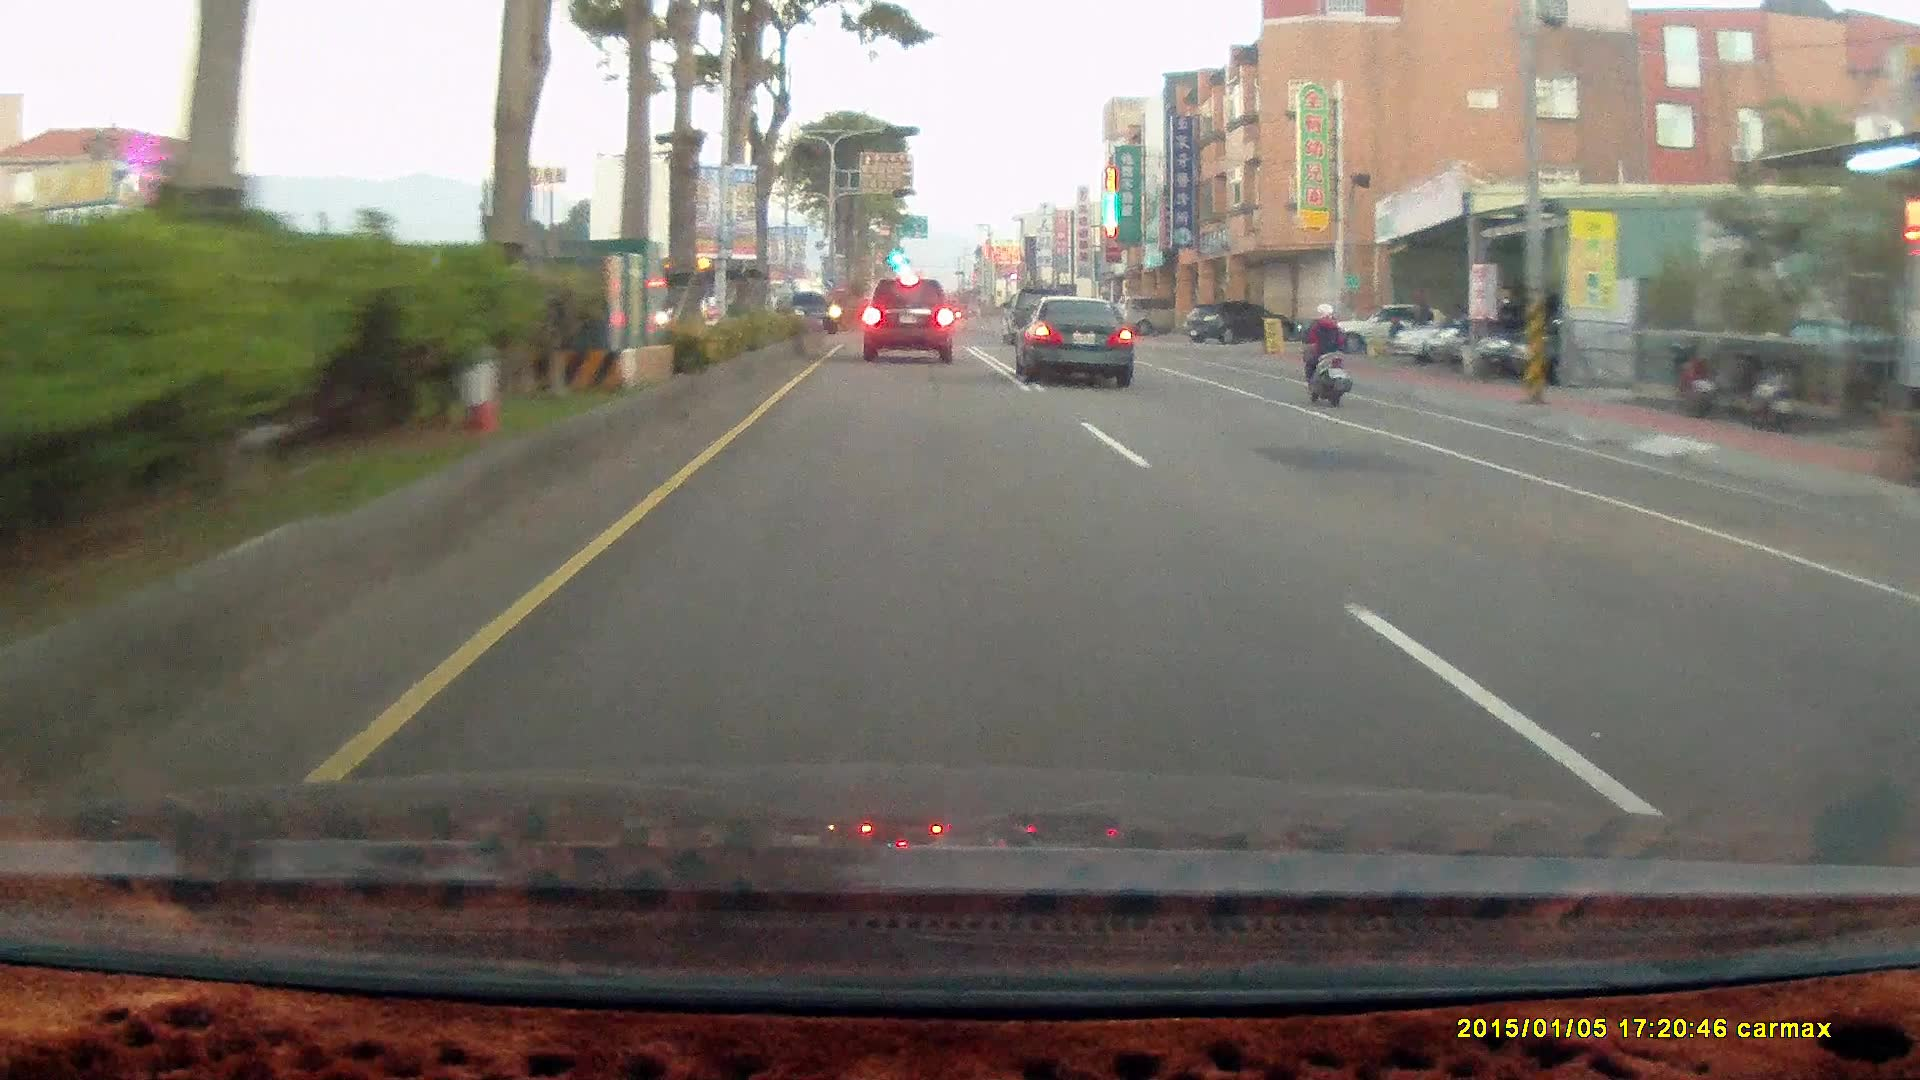pedestrian: (1411, 292, 1432, 349)
rider: (1289, 291, 1365, 416), (1294, 296, 1352, 403)
vehicle: (1505, 307, 1668, 382), (1474, 300, 1634, 376), (1021, 289, 1138, 385), (1010, 293, 1132, 384), (1430, 294, 1571, 366), (1303, 298, 1464, 357), (1304, 299, 1466, 358), (865, 269, 960, 358), (860, 277, 952, 363), (1392, 310, 1512, 364), (1182, 299, 1290, 343), (1187, 299, 1282, 345), (998, 285, 1063, 338), (1118, 294, 1199, 335), (778, 287, 840, 328)
